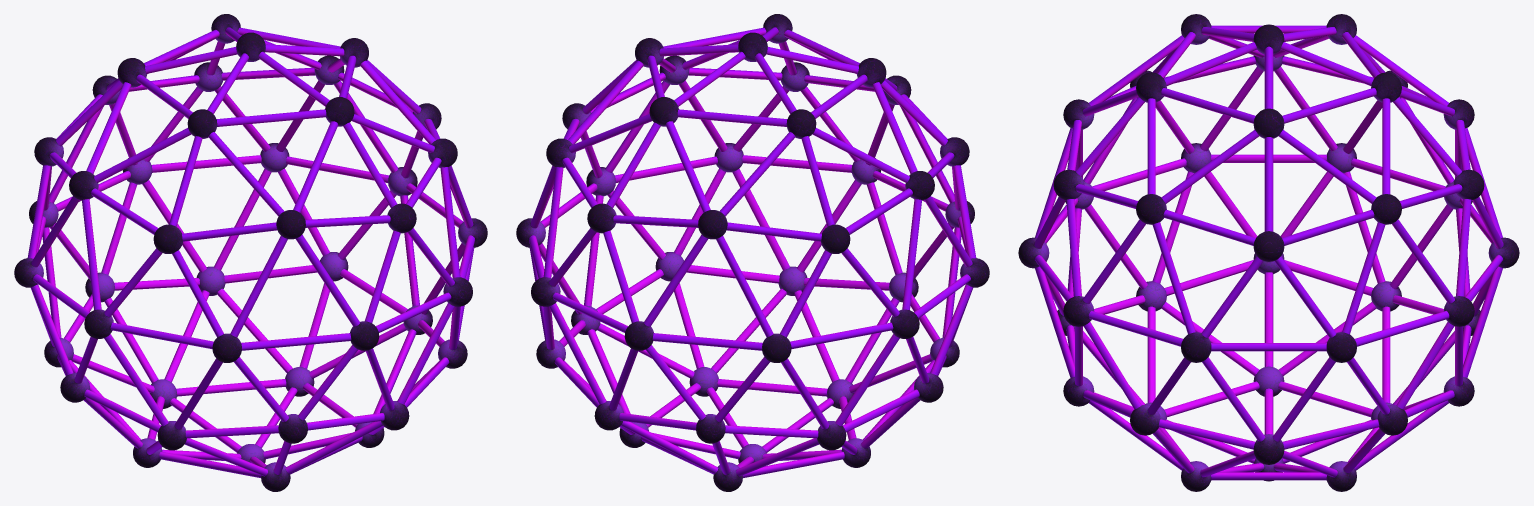
The model's file is molecule.obj.
3 views of the same model, side by side, from view 1: azimuth 30°, elevation 25°; view 2: azimuth 150°, elevation 25°; view 3: azimuth 270°, elevation 25° (orthographic). The views are drawn at different scales.
Parts seen in each view (by area): view 1: stems_Icosphere, balls_Icosphere.001; view 2: stems_Icosphere, balls_Icosphere.001; view 3: stems_Icosphere, balls_Icosphere.001.
Boxes of the visible parts, <box> form: stems_Icosphere: <box>27,27,474,477</box>; balls_Icosphere.001: <box>14,14,487,491</box>; stems_Icosphere: <box>529,27,976,477</box>; balls_Icosphere.001: <box>516,14,989,491</box>; stems_Icosphere: <box>1034,25,1503,480</box>; balls_Icosphere.001: <box>1018,14,1519,491</box>.
Size of the model in its own units: 2.03 by 2.13 by 2.13.
Materials: 2 (2 with a texture image).
